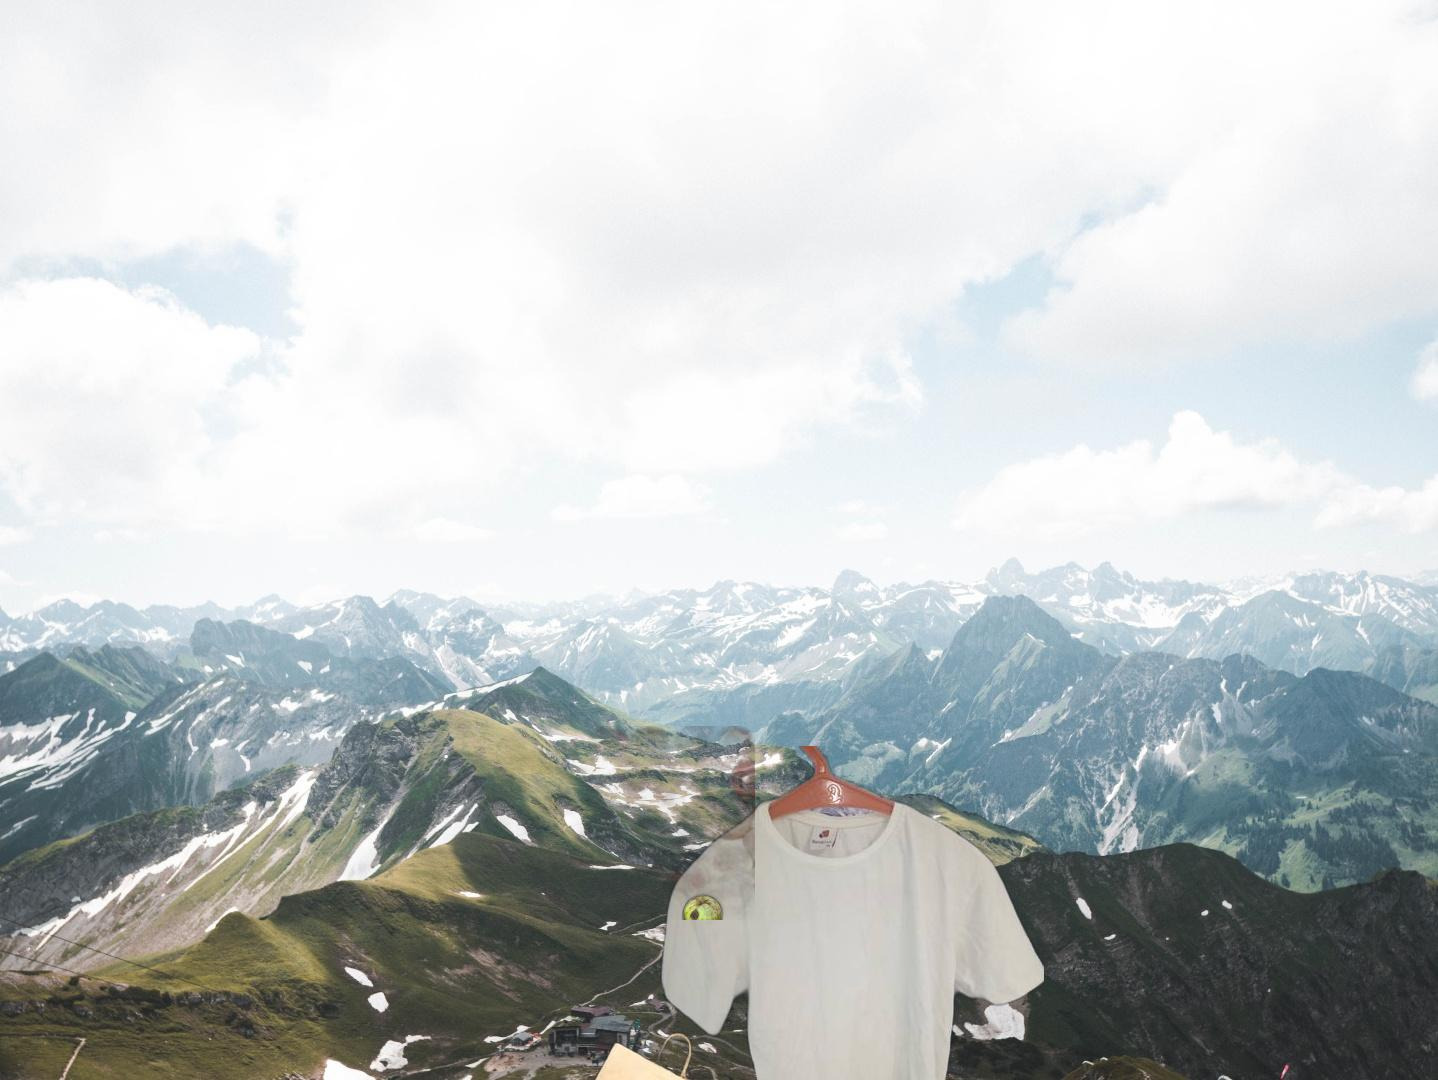biological: (496, 726, 755, 920)
clothes: (655, 746, 1044, 1080)
paper-bag: (521, 1030, 728, 1080)
